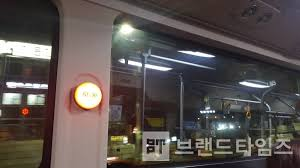bell: (68, 79, 104, 113)
